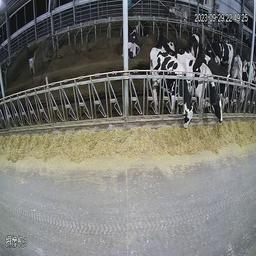cow: (150, 45, 192, 130), (193, 56, 225, 122), (124, 18, 138, 57), (140, 15, 149, 41)
